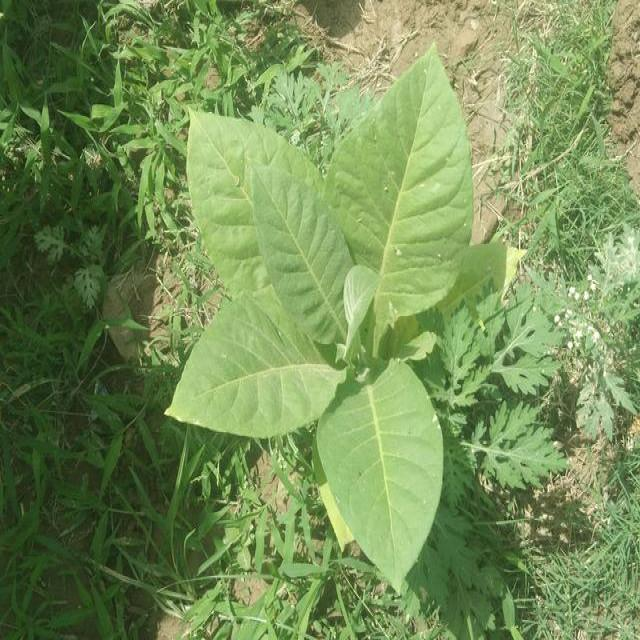crop: (165, 53, 492, 590)
